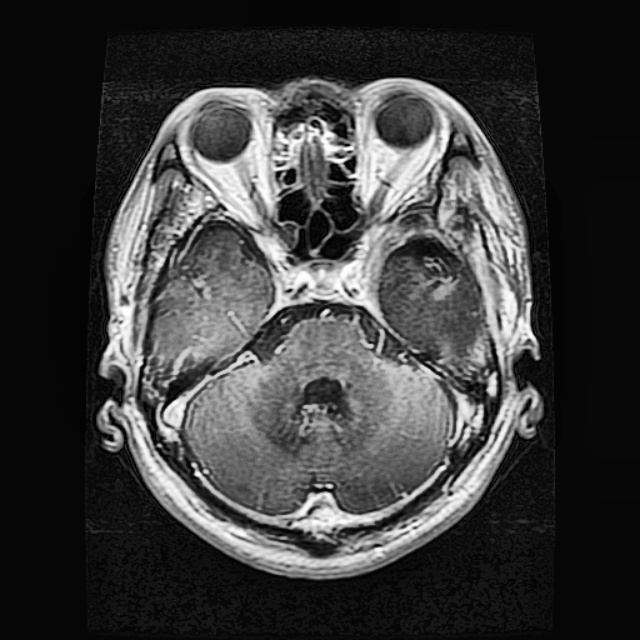Glioma: (379, 237, 485, 384)
